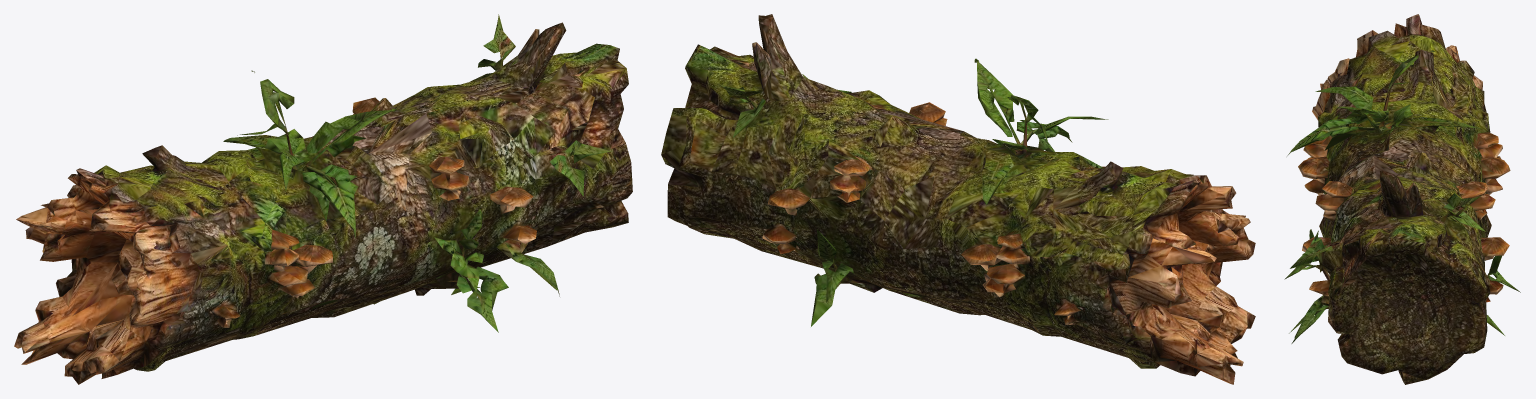
Rendered from tronco.glb.
The picture shows the model from 3 angles, left to right: view 1: azimuth 30°, elevation 25°; view 2: azimuth 150°, elevation 25°; view 3: azimuth 270°, elevation 25°; orthographic projection. The views are drawn at different scales.
Visible parts, largest first — view 1: tronco; view 2: tronco; view 3: tronco.
Boxes of the visible parts, <box> form: tronco: <box>14,14,632,384</box>; tronco: <box>661,14,1255,384</box>; tronco: <box>1284,14,1520,384</box>.
Size of the model in its own units: 4 by 1.65 by 1.62.
1 material, 1 textured.
